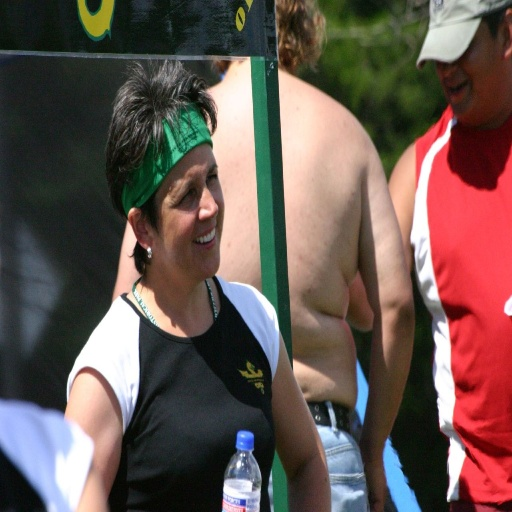hand: (364, 457, 387, 511)
